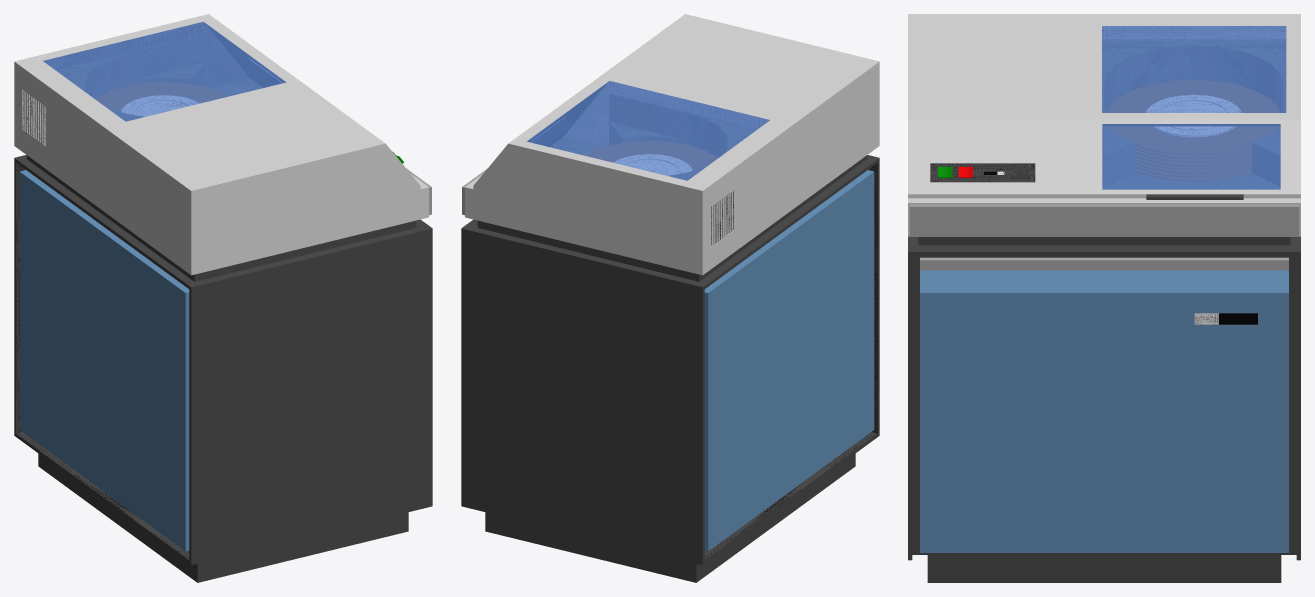
3 renders of one model, left to right at view 1: azimuth 30°, elevation 25°; view 2: azimuth 150°, elevation 25°; view 3: azimuth 270°, elevation 25°, orthographic. The views are drawn at different scales.
Parts seen in each view (by area): view 1: diskpack_drive_2311 (×9), diskpack (×2); view 2: diskpack_drive_2311 (×10), diskpack (×2); view 3: diskpack_drive_2311 (×13), diskpack (×3).
Part boxes in pixels (bbox=[...]): diskpack_drive_2311 (×9): bbox=[14, 14, 432, 582]; diskpack (×2): bbox=[95, 82, 227, 116]; diskpack_drive_2311 (×10): bbox=[461, 14, 879, 582]; diskpack (×2): bbox=[585, 141, 717, 175]; diskpack_drive_2311 (×13): bbox=[908, 14, 1300, 582]; diskpack (×3): bbox=[1108, 80, 1279, 155].
Bounding box in the file's own units: 24.99 × 31.72 × 39.75.
